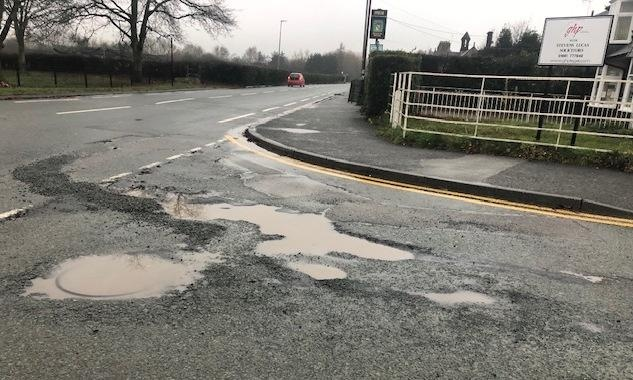pothole: (22, 203, 227, 320)
